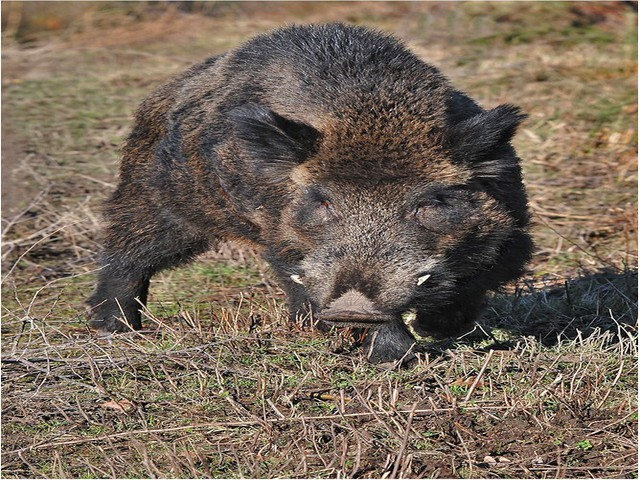Pig: (94, 21, 542, 354)
